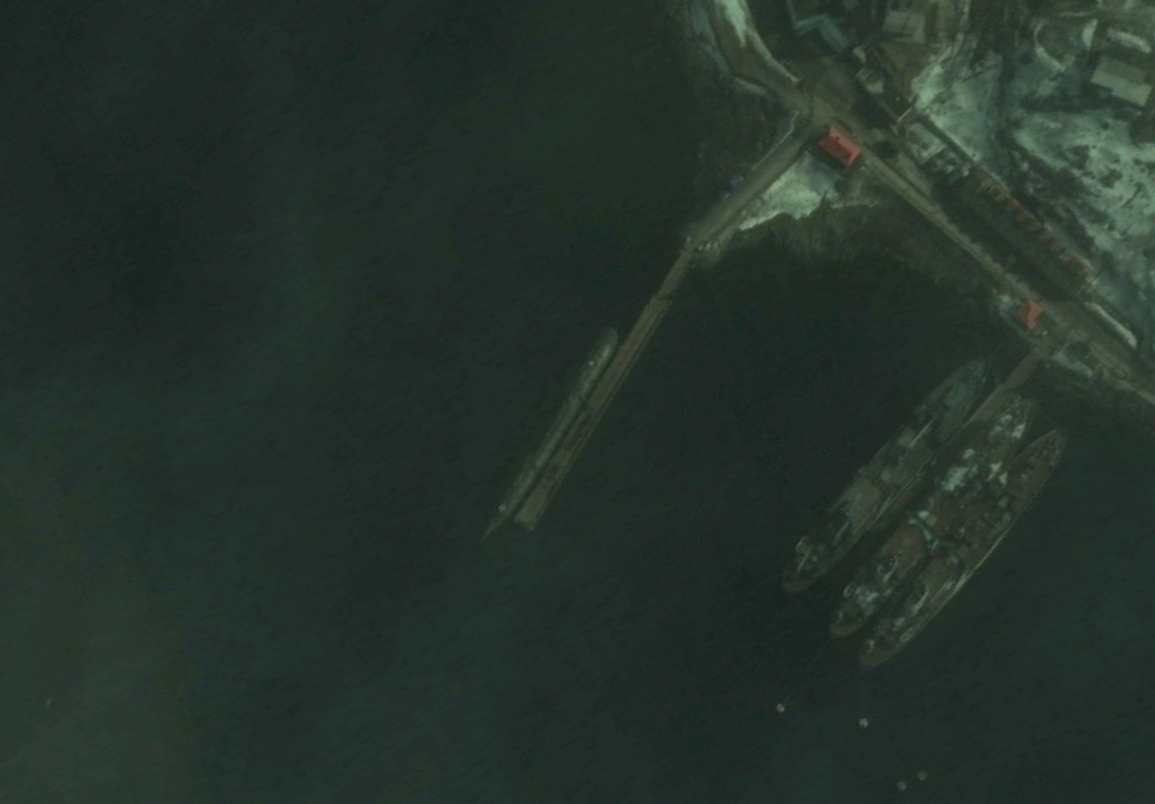merchant ship: (855, 427, 1069, 673), (827, 395, 1035, 639), (779, 358, 989, 595)
submarine: (473, 326, 618, 548)
